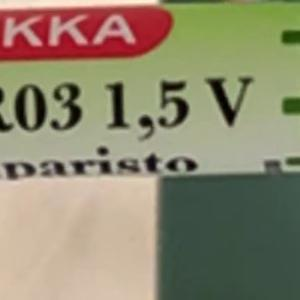1,5V: (87, 67, 263, 166)
